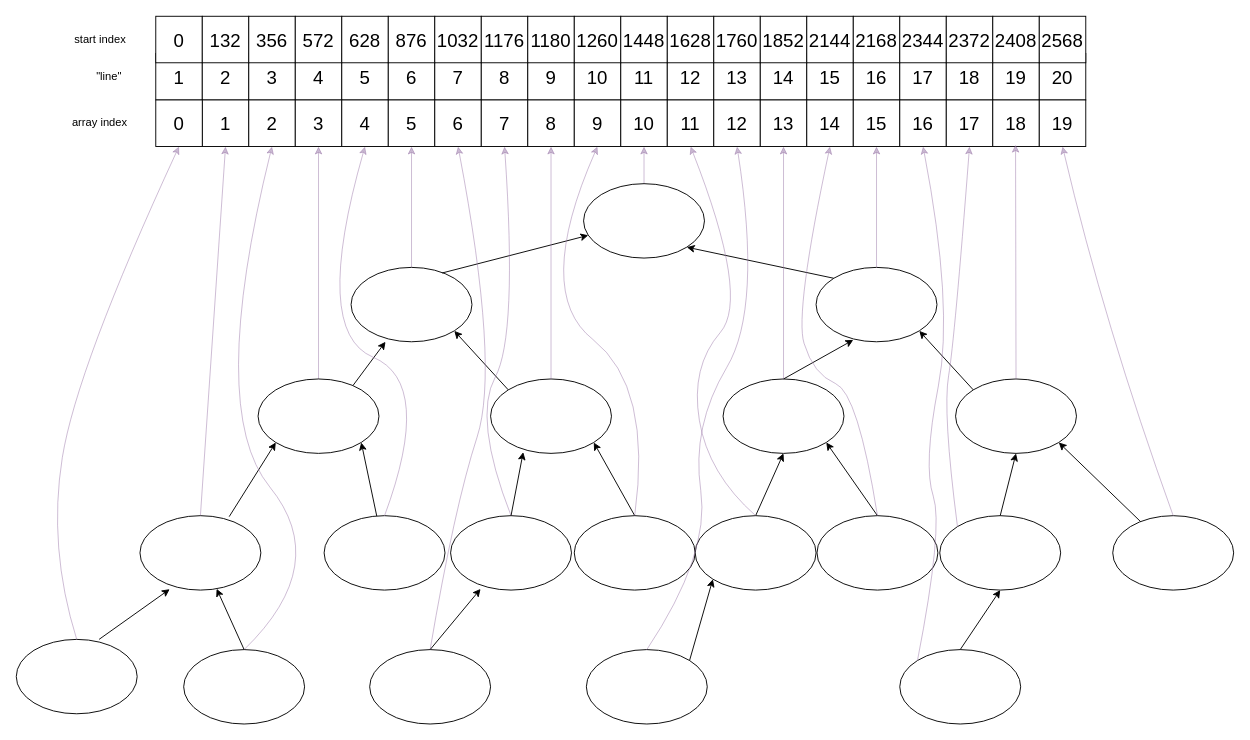
Image size: 1250x740. Some labels were removed from this diagram. Here are the shapes that lost their labels. From the top down, the box of each, then its label:
(583, 183, 704, 258): relative_linenr = 11 relative_offset = 1260
(350, 266, 472, 342): relative_linenr = -6 relative_offset = -384
(815, 266, 937, 342): relative_linenr = 5 relative_offset = 720
(257, 378, 379, 453): relative_linenr = -2 relative_offset = -304
(490, 378, 611, 453): relative_linenr = 2 relative_offset = 304
(722, 378, 844, 453): relative_linenr = -2 relative_offset = -316
(955, 378, 1076, 453): relative_linenr = 3 relative_offset = 240
(139, 515, 261, 590): relative_linenr = -2 relative_offset = -440
(323, 515, 445, 590): relative_linenr = 1 relative_offset = 56
(450, 515, 571, 590): relative_linenr = -1 relative_offset = -4
(573, 515, 695, 590): relative_linenr = 1 relative_offset = 80
(694, 515, 816, 590): relative_linenr = -2 relative_offset = -224
(816, 515, 938, 590): relative_linenr = 1 relative_offset = 292
(939, 515, 1061, 590): relative_linenr = -1 relative_offset = -36
(1112, 515, 1234, 590): relative_linenr = 1 relative_offset = 160
(15, 638, 137, 714): relative_linenr = -1 relative_offset = -132
(183, 649, 305, 724): relative_linenr = 1 relative_offset = 224
(369, 649, 491, 724): relative_linenr = -1 relative_offset = -144
(585, 649, 707, 724): relative_linenr = -1 relative_offset = -92
(899, 649, 1021, 724): relative_linenr = -1 relative_offset = -28
